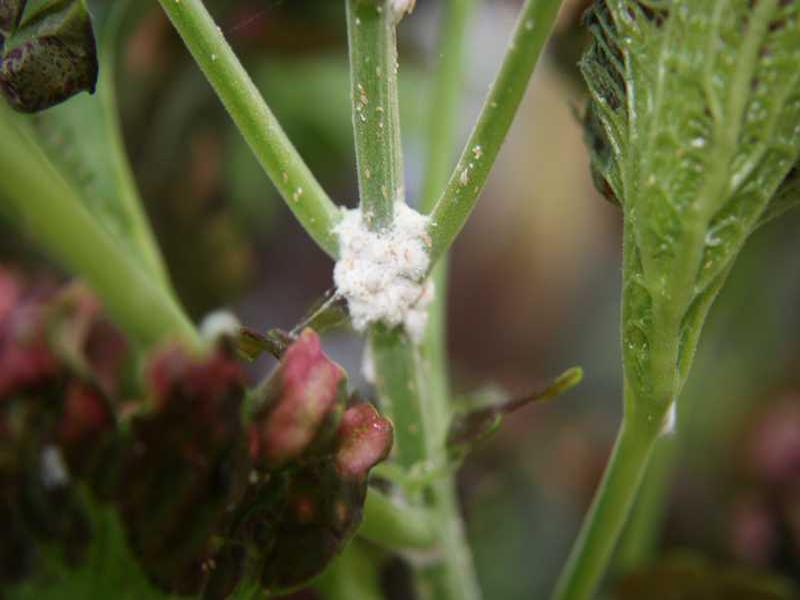Mealy_bug: (315, 159, 461, 354)
